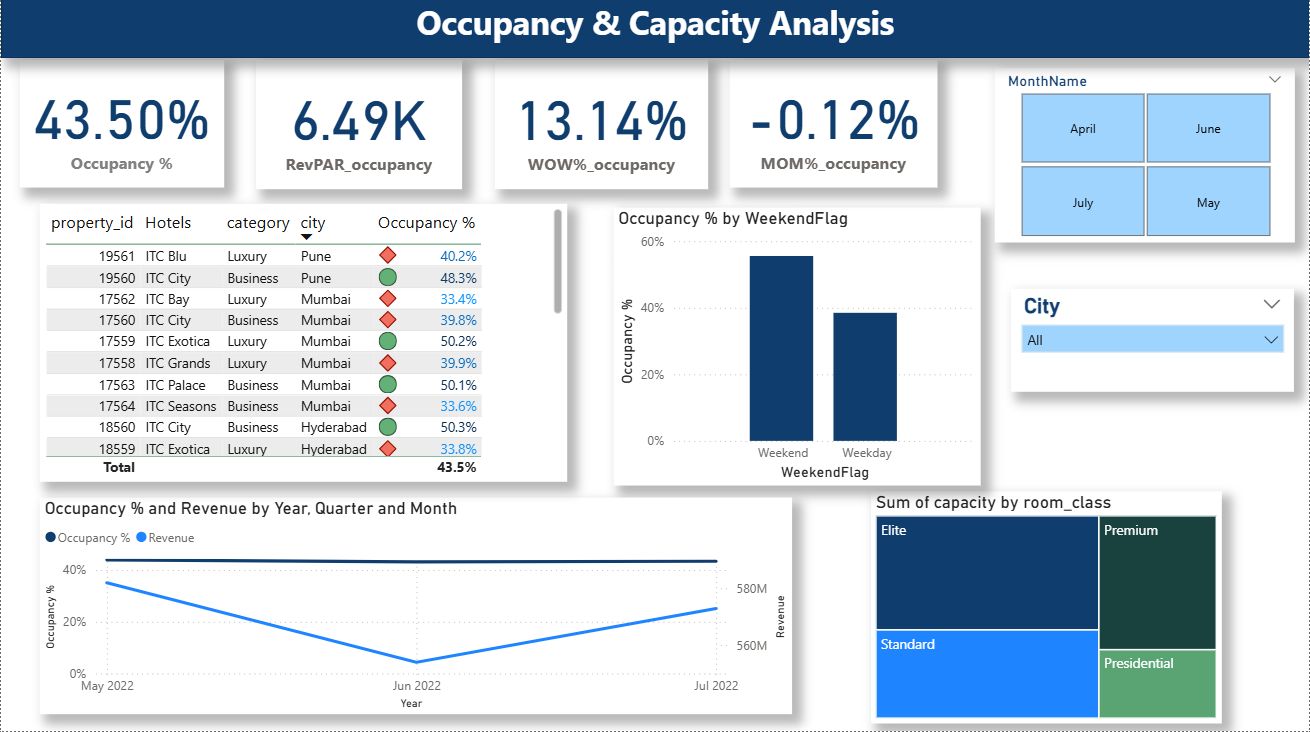

The page's visual inventory and layout, read from the dashboard file:
{"tool":"powerbi","page":{"name":"Occupancy & Capacity","canvas":[1280,720],"ordinal":1},"visuals":[{"type":"shape","box":[0,0,1280.3,61.9],"z":0},{"type":"treemap","fields":{"Group":["rooms.room_class"],"Values":["Sum(occupancy.capacity)"]},"box":[851.5,485.9,343,227.2],"z":1000},{"type":"clusteredColumnChart","fields":{"Category":["Calendar.WeekendFlag"],"Y":["Measure Table (2).Occupancy_Rate"]},"box":[598.8,207.6,359.6,272.3],"z":2000},{"type":"card","fields":{"Values":["Measure Table (2).Occupancy_Rate"]},"box":[18.1,63.2,200.1,124.9],"z":3000},{"type":"card","fields":{"Values":["Measure Table (2).WOW%_occupancy"]},"box":[482.9,63.2,209.1,126.4],"z":4000},{"type":"card","fields":{"Values":["Measure Table (2).RevPAR_occupancy"]},"box":[249.7,63.2,201.6,126.4],"z":5000},{"type":"card","fields":{"Values":["Measure Table (2).MOM%_occupancy"]},"box":[713.1,63.2,203.1,124.9],"z":6000},{"type":"lineChart","fields":{"Category":["Calendar.Date.Variation.Date Hierarchy.Year","Calendar.Date.Variation.Date Hierarchy.Quarter","Calendar.Date.Variation.Date Hierarchy.Month","Calendar.Date.Variation.Date Hierarchy.Day"],"Y":["Measure Table (2).Occupancy_Rate"],"Y2":["Measure Table (2).Revenue"]},"box":[37.6,492,735.7,212.1],"z":7000},{"type":"tableEx","fields":{"Values":["hotels.property_id","hotels.property_name","hotels.category","hotels.city","Measure Table (2).Occupancy_Rate"]},"box":[38.4,203.9,516,272.3],"z":8000},{"type":"slicer","fields":{"Values":["Calendar.MonthName"]},"box":[971.9,70.7,293.4,171.5],"z":9000},{"type":"textbox","box":[0,0,1280.3,61.7],"z":10000},{"type":"slicer","fields":{"Values":["hotels.city"]},"box":[988.4,287.4,276.8,100.8],"z":11000}]}

Visuals, with their boxes in screenshot pixels (x1, y1, x2, y2), scaled from the page's 1280x720 canvas onto the 1310x732 screenshot:
shape: [left=0, top=0, right=1309, bottom=63]
treemap - rooms.room_class x Sum(occupancy.capacity): [left=871, top=494, right=1222, bottom=725]
clusteredColumnChart - Calendar.WeekendFlag x Measure Table (2).Occupancy_Rate: [left=613, top=211, right=981, bottom=488]
card - Measure Table (2).Occupancy_Rate: [left=19, top=64, right=223, bottom=191]
card - Measure Table (2).WOW%_occupancy: [left=494, top=64, right=708, bottom=193]
card - Measure Table (2).RevPAR_occupancy: [left=256, top=64, right=462, bottom=193]
card - Measure Table (2).MOM%_occupancy: [left=730, top=64, right=938, bottom=191]
lineChart - Calendar.Date.Variation.Date Hierarchy.Year x Calendar.Date.Variation.Date Hierarchy.Quarter: [left=38, top=500, right=791, bottom=716]
tableEx - hotels.property_id x hotels.property_name: [left=39, top=207, right=567, bottom=484]
slicer - Calendar.MonthName: [left=995, top=72, right=1295, bottom=246]
textbox: [left=0, top=0, right=1309, bottom=63]
slicer - hotels.city: [left=1012, top=292, right=1295, bottom=395]
